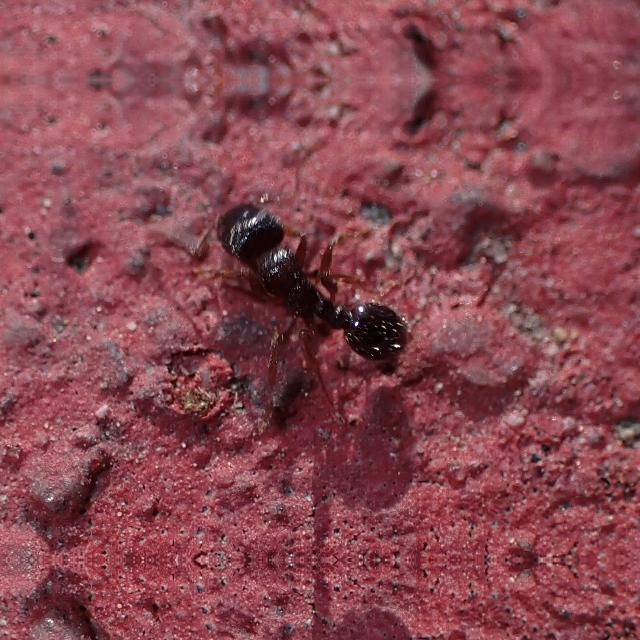Tetramorium: (190, 178, 436, 390)
